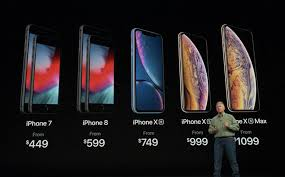iphone10: (221, 22, 265, 114), (128, 27, 172, 119), (74, 26, 118, 118), (23, 26, 67, 118), (176, 29, 214, 115)
